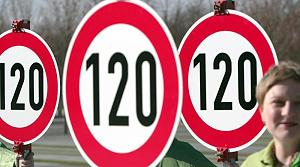Speed_limit_120km: (60, 1, 185, 167), (172, 8, 279, 151)
